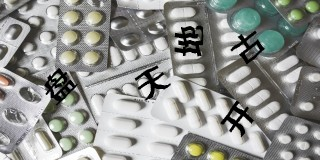古: (231, 30, 265, 65)
地: (173, 25, 205, 58)
天: (135, 66, 171, 100)
开: (220, 100, 254, 138)
盘: (43, 68, 79, 104)
